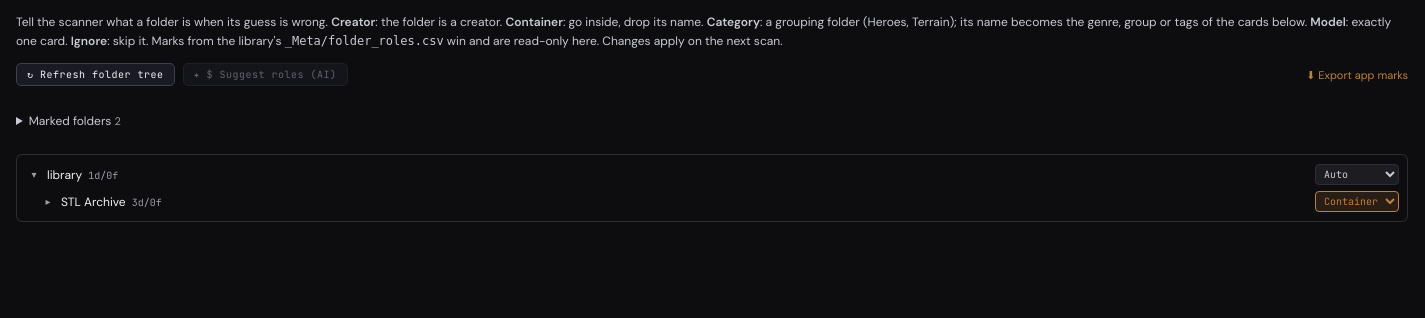
Scenario: Folder Roles panel › a mark from _Meta is read-only, badged, and shows the conflicting app value
This screenshot has width=1425, height=318.
Click the button named "Expand STL Archive".
click(48, 202)  # box [41,196,55,207]
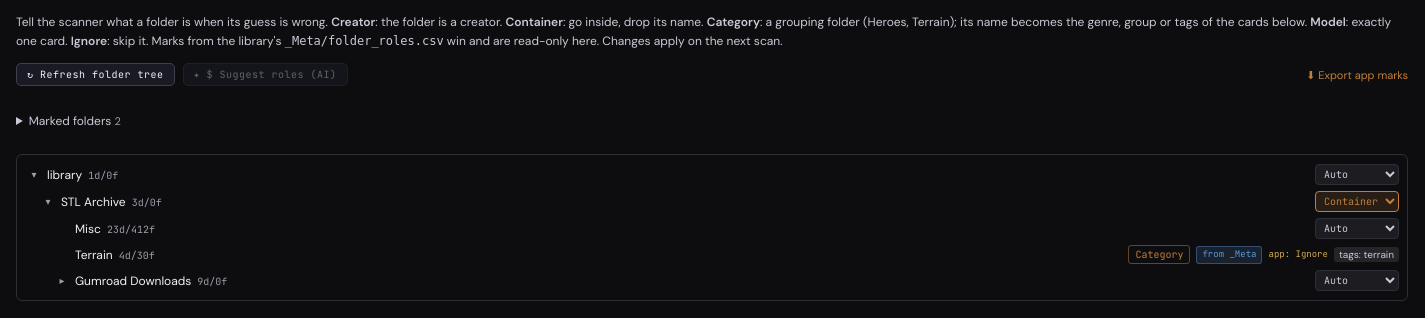
Now the text "from _Meta" is shown, box [1196,246,1262,264]
Now the text "Category" next to "from _Meta" is shown, box [1136,248,1184,261]
Now the text "app: Ignore" is shown, box [1268,248,1328,262]
